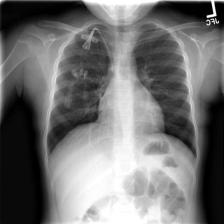normal: (43, 18, 198, 170)
